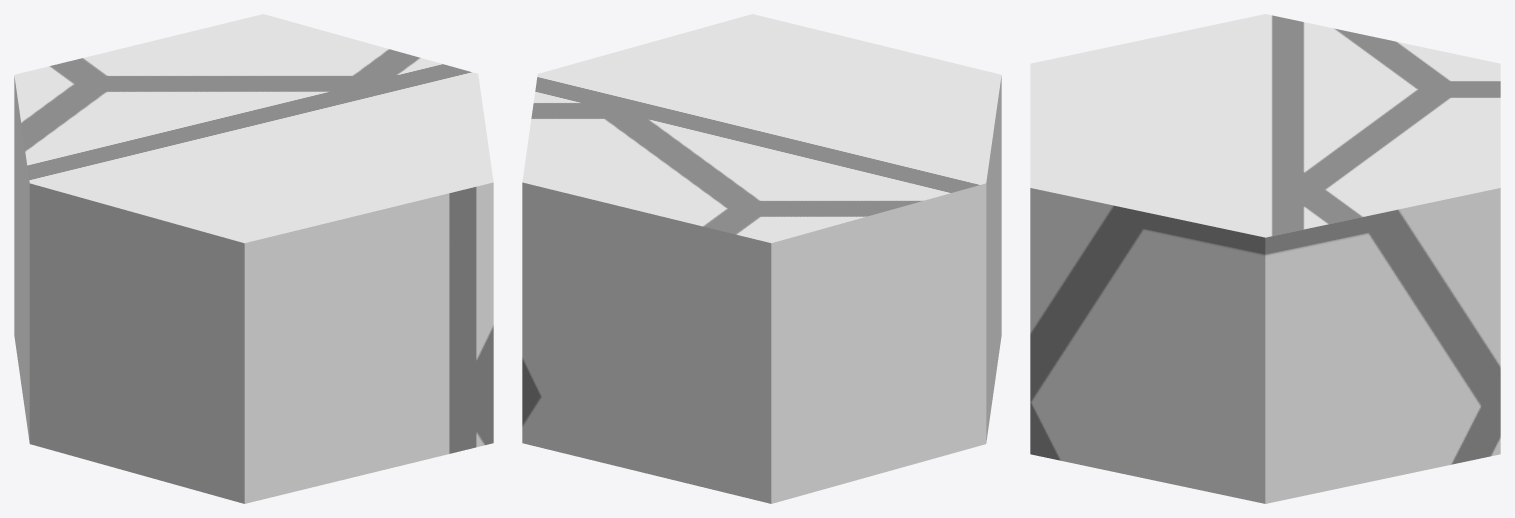
The model's file is hexagone.fbx.
3 views of the same model, side by side, from view 1: azimuth 30°, elevation 25°; view 2: azimuth 150°, elevation 25°; view 3: azimuth 270°, elevation 25° (orthographic). The views are drawn at different scales.
Parts seen in each view (by area): view 1: Cube; view 2: Cube; view 3: Cube.
Part boxes in pixels (x1,y1,x2,y2): Cube: (14, 14, 493, 503); Cube: (522, 14, 1001, 503); Cube: (1030, 14, 1500, 503).
Bounding box in the file's own units: 180 × 100 × 160.
